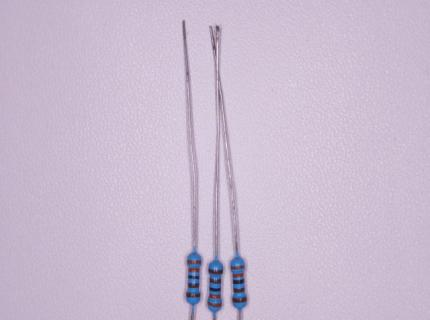Black band: (233, 279, 244, 284), (188, 275, 199, 279), (210, 287, 221, 291)
Brown band: (209, 269, 223, 274), (234, 287, 245, 293), (186, 293, 200, 297), (233, 298, 247, 302), (188, 283, 199, 288), (210, 278, 221, 283)
Orange band: (208, 301, 222, 307), (187, 260, 201, 265), (231, 265, 245, 269), (233, 273, 244, 278), (188, 268, 200, 272), (209, 294, 220, 298)
